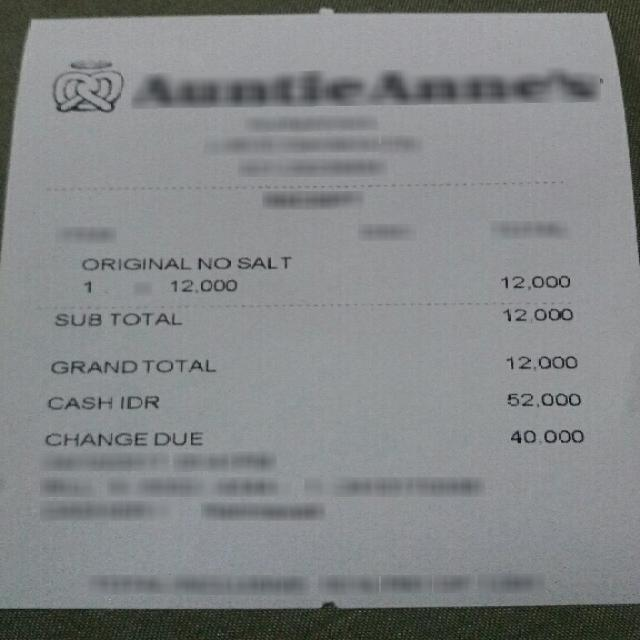kertas: (4, 11, 638, 608)
